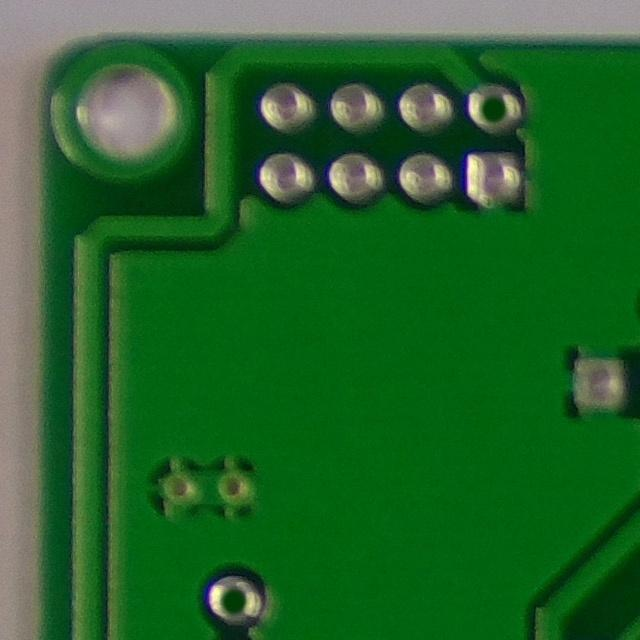missing_hole: (200, 572, 266, 627)
